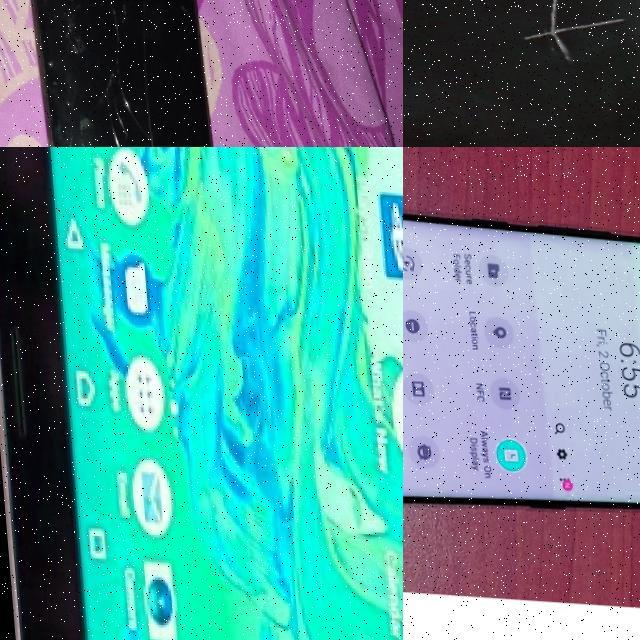scratch: (515, 0, 627, 59)
screen crack: (32, 84, 230, 147)
